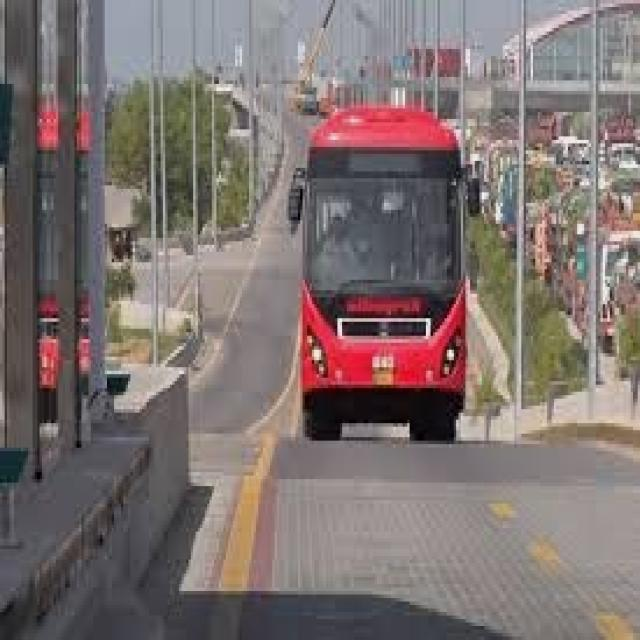bus: (283, 95, 484, 475)
